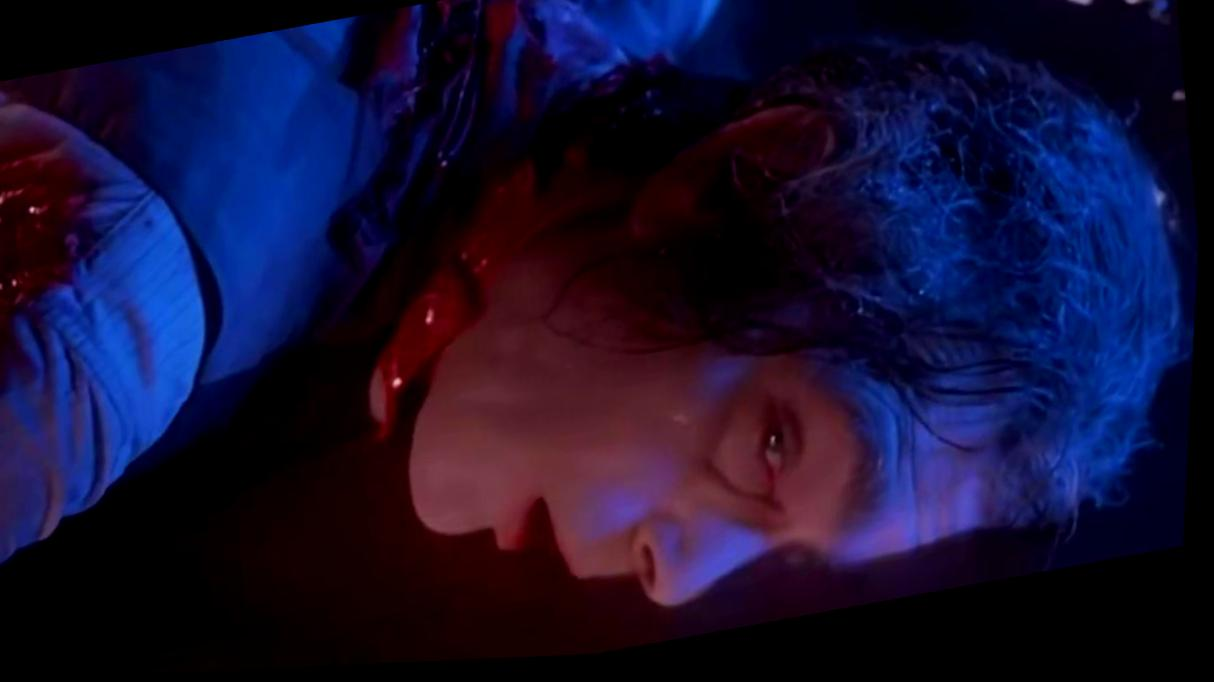Fire: (372, 61, 737, 441), (330, 0, 584, 263), (0, 151, 89, 339)
